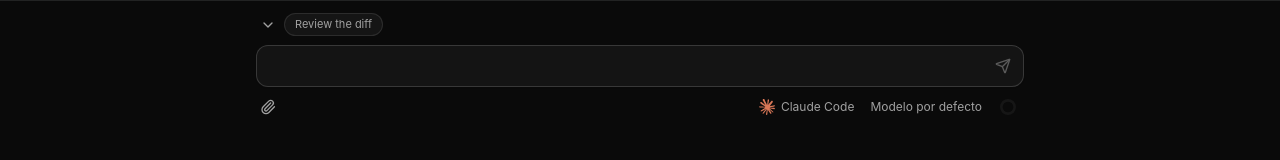
Test: Composer - showing and hiding the saved orders › unfolds them again on the next click
What coordinates should you click on to do the following:
click the button named "Ocultar los mensajes rápidos"
I would click on:
 (268, 25)
Its box is [256,13,280,37].
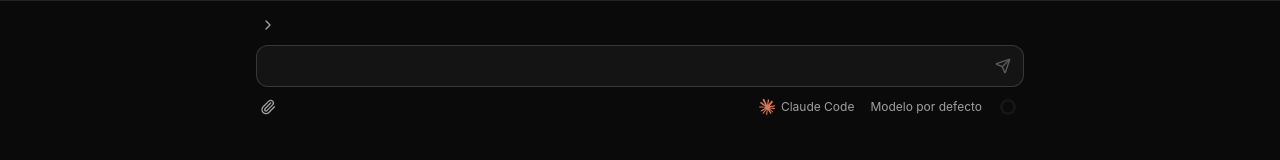
What coordinates should you click on to do the following:
click the button named "Mostrar los mensajes rápidos"
I would click on:
 (268, 25)
Its box is [256,13,280,37].
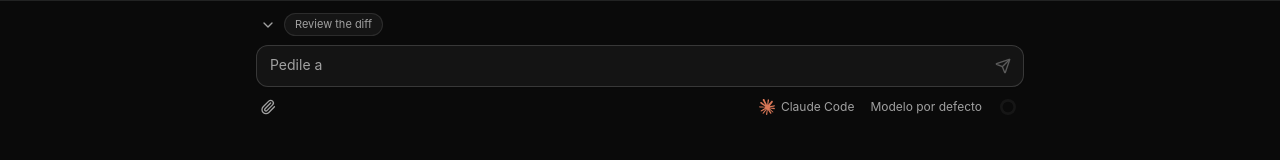
Result: the button named "Ocultar los mensajes rápidos" is shown at [256,13,280,37]
